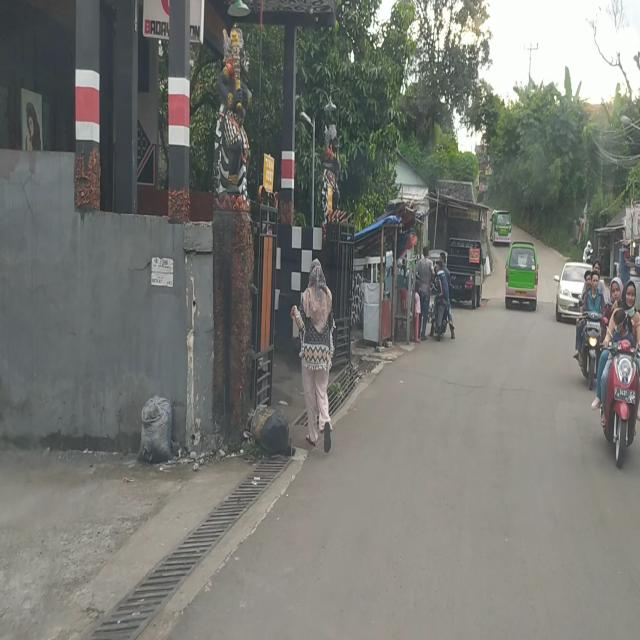Sewer Cover: (393, 363, 581, 401)
